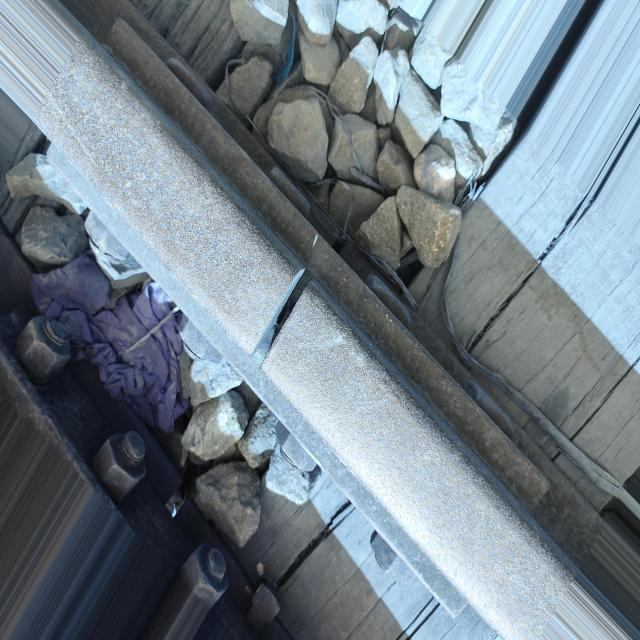crack: (225, 257, 336, 380)
